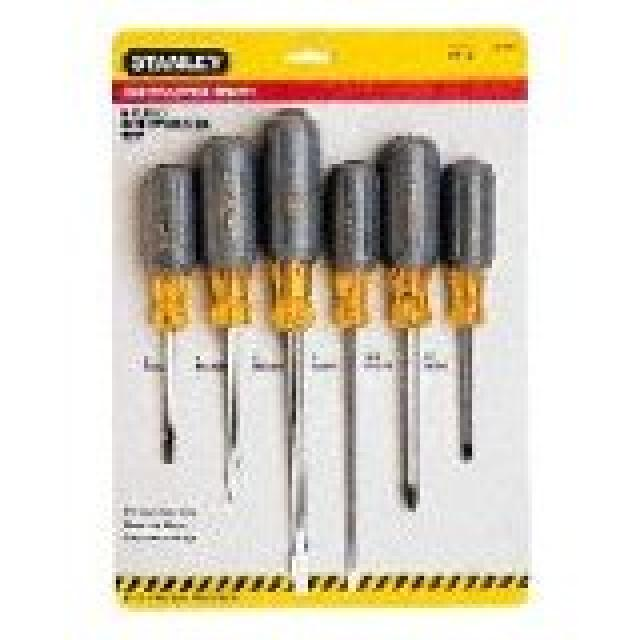screw driver: (256, 100, 332, 601), (194, 124, 273, 518), (382, 118, 449, 543), (321, 144, 383, 588), (125, 161, 201, 486), (445, 141, 500, 496)
